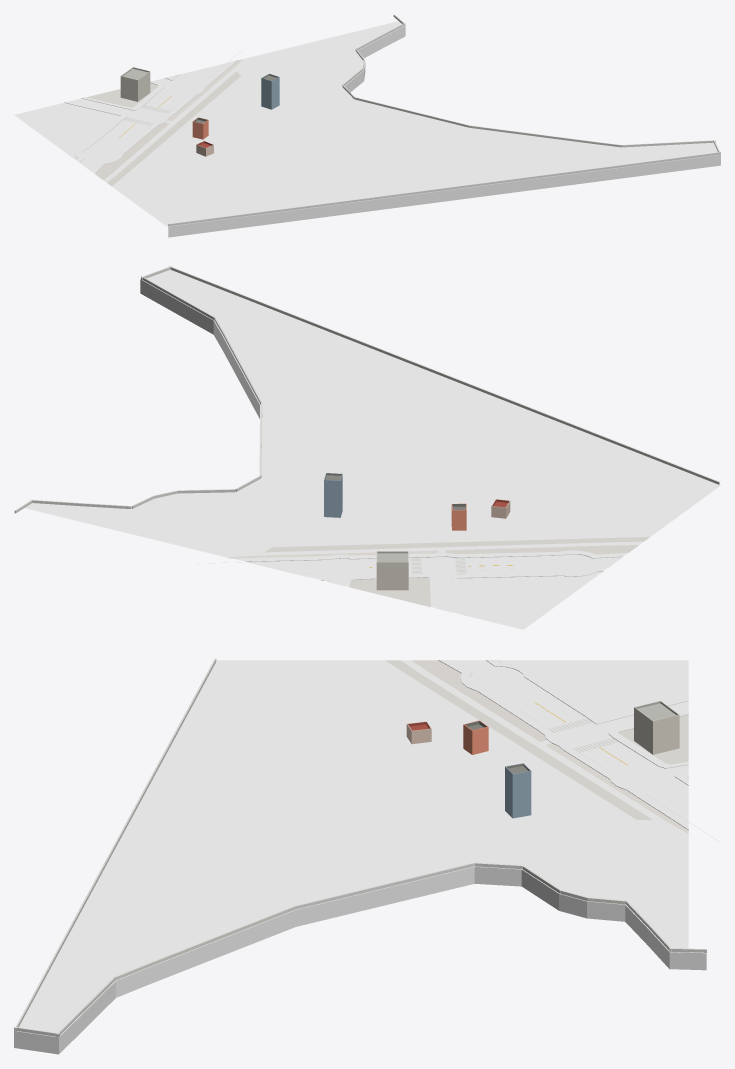
3 renders of one model, top to bottom at view 1: azimuth 30°, elevation 25°; view 2: azimuth 150°, elevation 25°; view 3: azimuth 270°, elevation 25°, orthographic. The views are drawn at different scales.
Visible parts, largest first — view 1: grass, concrete, coast, asphalt, stone, ground, sidewalk, walls, roofs; view 2: grass, concrete, asphalt, ground, stone, sidewalk, walls, coast, roofs; view 3: grass, concrete, coast, asphalt, ground, stone, sidewalk, walls, roofs, markings.
Part boxes in pixels (x1=…): grass: x1=14, y1=66, x2=633, y2=214; concrete: x1=103, y1=21, x2=720, y2=226; coast: x1=168, y1=25, x2=720, y2=237; asphalt: x1=69, y1=63, x2=226, y2=170; stone: x1=168, y1=14, x2=720, y2=226; ground: x1=75, y1=59, x2=242, y2=186; sidewalk: x1=64, y1=60, x2=237, y2=173; walls: x1=120, y1=71, x2=279, y2=156; roofs: x1=121, y1=67, x2=278, y2=148; grass: x1=231, y1=307, x2=699, y2=629; concrete: x1=25, y1=269, x2=720, y2=556; asphalt: x1=246, y1=554, x2=622, y2=612; ground: x1=226, y1=537, x2=649, y2=607; stone: x1=14, y1=266, x2=719, y2=513; sidewalk: x1=233, y1=550, x2=627, y2=613; walls: x1=324, y1=475, x2=510, y2=590; coast: x1=140, y1=279, x2=259, y2=418; roofs: x1=324, y1=473, x2=509, y2=562; grass: x1=73, y1=660, x2=688, y2=980; concrete: x1=14, y1=660, x2=688, y2=1037; coast: x1=14, y1=867, x2=706, y2=1054; asphalt: x1=452, y1=660, x2=688, y2=821; ground: x1=385, y1=660, x2=688, y2=833; stone: x1=14, y1=658, x2=706, y2=1037; sidewalk: x1=438, y1=660, x2=688, y2=829; walls: x1=406, y1=707, x2=679, y2=818; roofs: x1=407, y1=701, x2=679, y2=774; markings: x1=515, y1=697, x2=720, y2=842.
Size of what is drawn, in the model's own units: 239 by 18.04 by 189.
